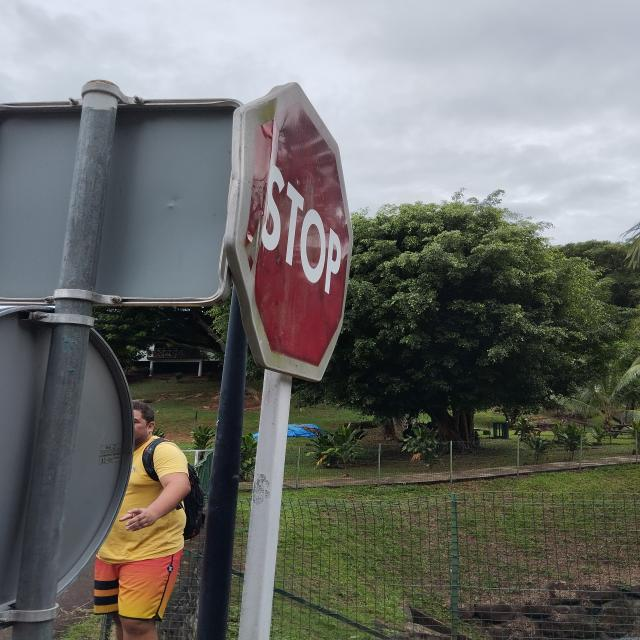Panneau-Stop: (240, 90, 354, 374)
